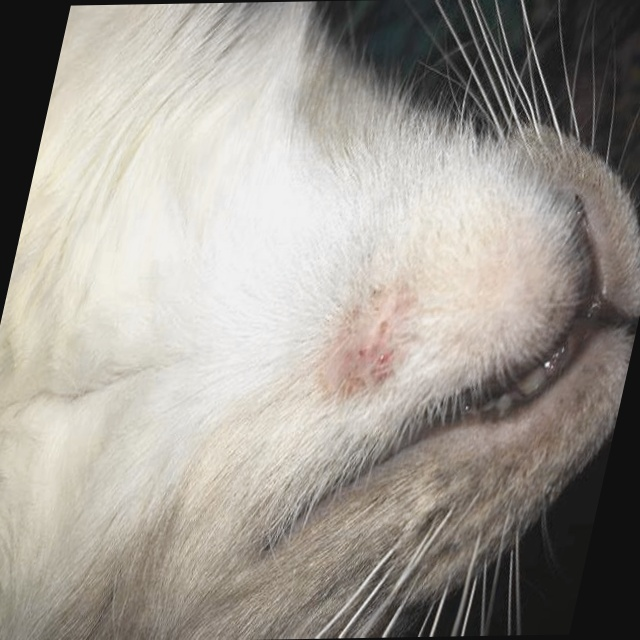acne: (315, 302, 423, 402)
